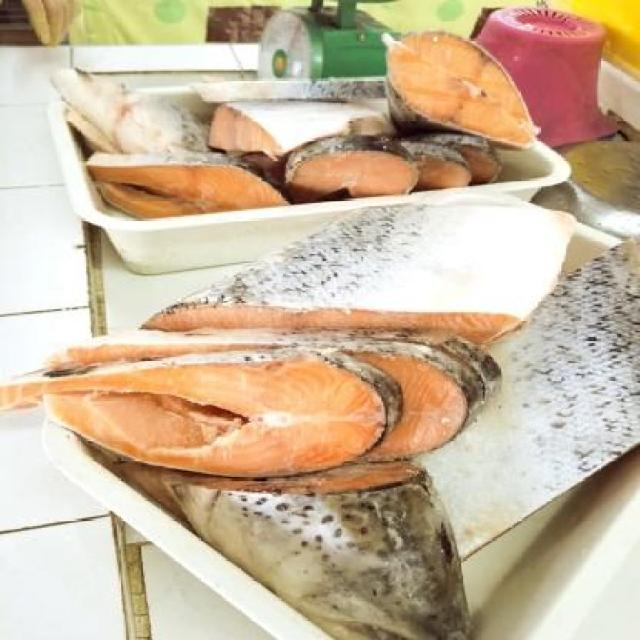salmon: (52, 323, 495, 462), (1, 348, 392, 482), (356, 20, 562, 160), (95, 142, 297, 225), (280, 134, 422, 197)
